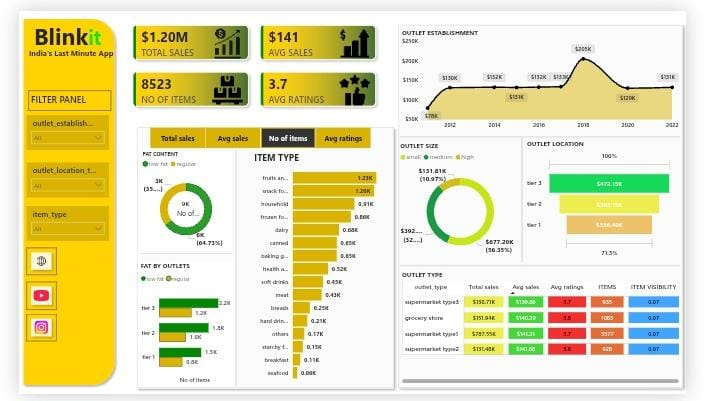

Layout of this report page (visuals, bound fields, positions):
{"tool":"powerbi","page":{"name":"Page 1","canvas":[1400,800],"ordinal":0},"visuals":[{"type":"shape","box":[0,7.1,210,785.7],"z":0},{"type":"textbox","box":[14.7,14.7,173.1,78.4],"z":1000},{"type":"textbox","box":[14.7,71.8,195.9,44.1],"z":2000},{"type":"cardVisual","fields":{"Data":["sales.Total sales","sales.Avg sales","sales.NO OF ITEMS2","sales.Avg ratings"]},"box":[210.6,0,569.8,231.8],"z":3000},{"type":"shape","box":[236.7,233.5,556.7,566.5],"z":4000},{"type":"donutChart","title":"FAT CONTENT","fields":{"Y":["sales.No of Items"],"Category":["items.item_fat_content"]},"box":[254.7,293.9,192.7,207.3],"z":5000},{"type":"cardVisual","fields":{"Data":["sales.No of Items"]},"box":[295.5,370.6,111,78.4],"z":6000},{"type":"clusteredBarChart","title":"FAT BY OUTLETS","fields":{"Y":["sales.No of Items"],"Category":["outlets.outlet_location_type"],"Series":["items.item_fat_content"]},"box":[251.4,524.1,199.2,262.9],"z":7000},{"type":"shape","box":[254.7,501.2,192.7,16.3],"z":8000},{"type":"barChart","title":"ITEM TYPE","fields":{"Y":["sales.No of Items"],"Category":["items.item_type"]},"box":[489.8,293.9,290.6,493.1],"z":9000},{"type":"slicer","fields":{"Values":["Metrics.Metrics"]},"box":[251.4,240,511,55.5],"z":10000},{"type":"shape","box":[785.3,19.6,615.5,780.4],"z":11000},{"type":"lineChart","title":"OUTLET ESTABLISHMENT ","fields":{"Category":["outlets.outlet_establishment_year"],"Y":["sales.Total sales"]},"box":[798.4,35.9,591,222],"z":12000},{"type":"donutChart","title":"OUTLET SIZE","fields":{"Y":["sales.Total sales"],"Category":["outlets.outlet_size"]},"box":[793.5,272.7,262.9,251.4],"z":13000},{"type":"funnel","title":"OUTLET LOCATION","fields":{"Category":["outlets.outlet_location_type"],"Y":["sales.Total sales"]},"box":[1062.9,271,313.5,253.1],"z":14000},{"type":"shape","box":[798.4,525.7,589.4,19.6],"z":15000},{"type":"shape","box":[1049.8,267.8,13.1,261.2],"z":16000},{"type":"shape","box":[798.4,253.1,589.4,19.6],"z":17000},{"type":"shape","box":[450.6,289,13.1,498],"z":18000},{"type":"pivotTable","title":"OUTLET TYPE","fields":{"Rows":["outlets.outlet_type"],"Values":["sales.Total sales","sales.Avg sales","sales.Avg ratings","sales.NO OF ITEMS2","Avg(items.item_visibility)"]},"box":[798.4,545.3,591,241.6],"z":19000},{"type":"slicer","fields":{"Values":["outlets.outlet_establishment_year"]},"box":[14.7,220.4,173.1,73.5],"z":20000},{"type":"slicer","fields":{"Values":["outlets.outlet_location_type"]},"box":[14.7,316.7,173.1,73.5],"z":21000},{"type":"slicer","fields":{"Values":["items.item_type"]},"box":[14.7,408.2,173.1,73.5],"z":22000},{"type":"textbox","box":[19.6,166.5,173.1,42.4],"z":23000},{"type":"actionButton","box":[14.3,568.6,62.9,58.6],"z":24000},{"type":"actionButton","box":[14.3,495.7,62.9,57.1],"z":25000},{"type":"actionButton","box":[14.3,637.1,62.9,57.1],"z":26000}]}

Visuals, with their boxes in screenshot pixels (x1, y1, x2, y2), scaled from the page's 1400x800 canvas onto the 720x401 screenshot:
shape: [left=0, top=4, right=108, bottom=397]
textbox: [left=8, top=7, right=97, bottom=47]
textbox: [left=8, top=36, right=108, bottom=58]
cardVisual - sales.Total sales x sales.Avg sales: [left=108, top=0, right=401, bottom=116]
shape: [left=122, top=117, right=408, bottom=400]
"FAT CONTENT" donutChart: [left=131, top=147, right=230, bottom=251]
cardVisual - sales.No of Items: [left=152, top=186, right=209, bottom=225]
"FAT BY OUTLETS" clusteredBarChart: [left=129, top=263, right=232, bottom=394]
shape: [left=131, top=251, right=230, bottom=259]
"ITEM TYPE" barChart: [left=252, top=147, right=401, bottom=394]
slicer - Metrics.Metrics: [left=129, top=120, right=392, bottom=148]
shape: [left=404, top=10, right=719, bottom=400]
"OUTLET ESTABLISHMENT " lineChart: [left=411, top=18, right=715, bottom=129]
"OUTLET SIZE" donutChart: [left=408, top=137, right=543, bottom=263]
"OUTLET LOCATION" funnel: [left=547, top=136, right=708, bottom=263]
shape: [left=411, top=264, right=714, bottom=273]
shape: [left=540, top=134, right=547, bottom=265]
shape: [left=411, top=127, right=714, bottom=137]
shape: [left=232, top=145, right=238, bottom=394]
"OUTLET TYPE" pivotTable: [left=411, top=273, right=715, bottom=394]
slicer - outlets.outlet_establishment_year: [left=8, top=110, right=97, bottom=147]
slicer - outlets.outlet_location_type: [left=8, top=159, right=97, bottom=196]
slicer - items.item_type: [left=8, top=205, right=97, bottom=241]
textbox: [left=10, top=83, right=99, bottom=105]
actionButton: [left=7, top=285, right=40, bottom=314]
actionButton: [left=7, top=248, right=40, bottom=277]
actionButton: [left=7, top=319, right=40, bottom=348]
